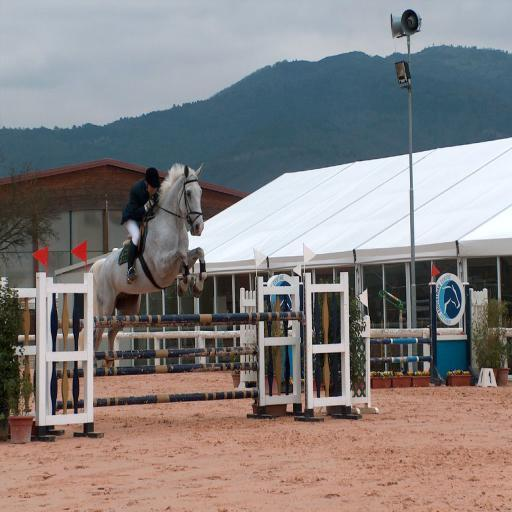horse: (77, 163, 209, 369)
